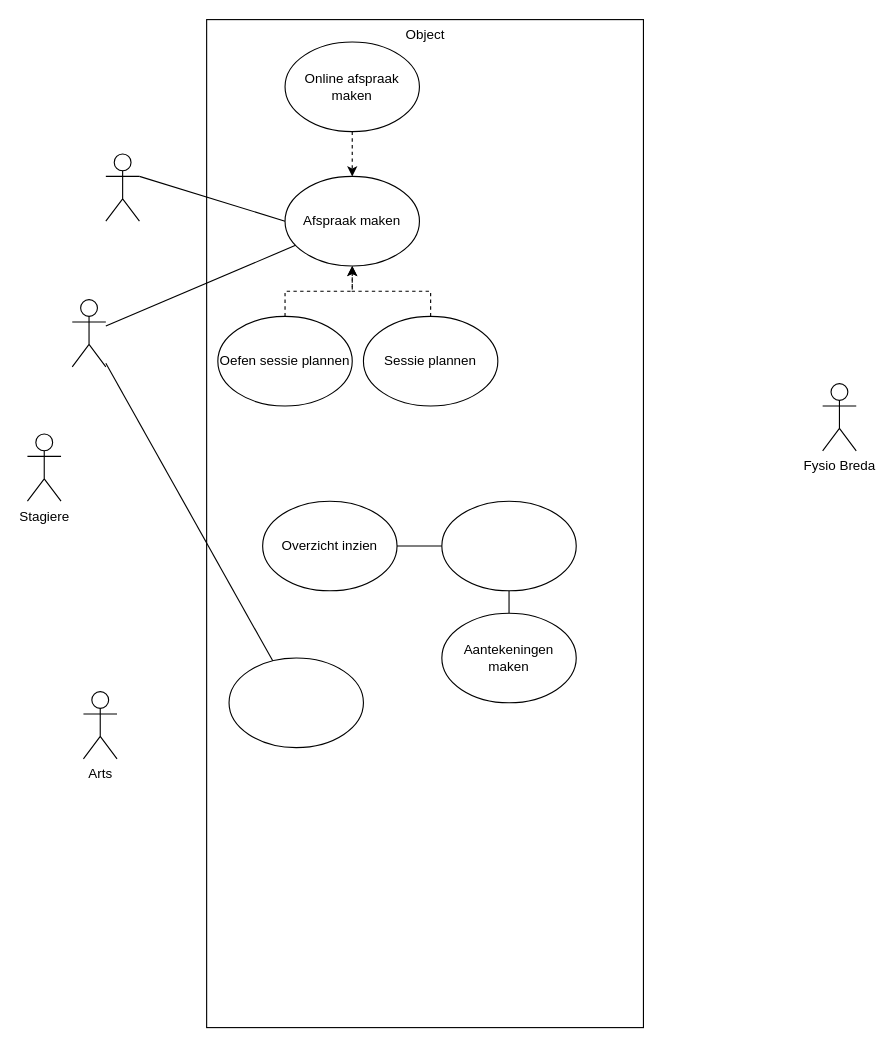
Image size: 895x1047. Some labels were removed from this diagram. Here are the shapes that lost their labels. From the top down, the centre of each, then its label:
At point 122,187: "Patient avans".
At point 88,332: "Assistente".
At point 508,545: "Patient dossiere openen".
At point 295,702: "Aanwezigheid Registreren".
